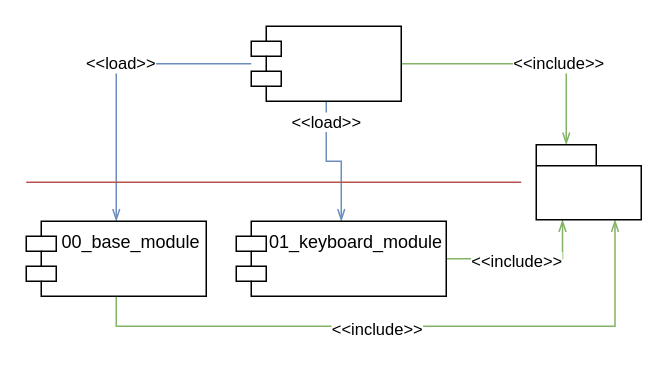
This 668x365 diagram has some shape labels left out. The shapes that lost their labels are listed below. From the top down, each one's box as (x1, y1, x2, y2) in pixels, then its label:
(250, 25, 401, 101): app_basic
(535, 143, 641, 220): common
